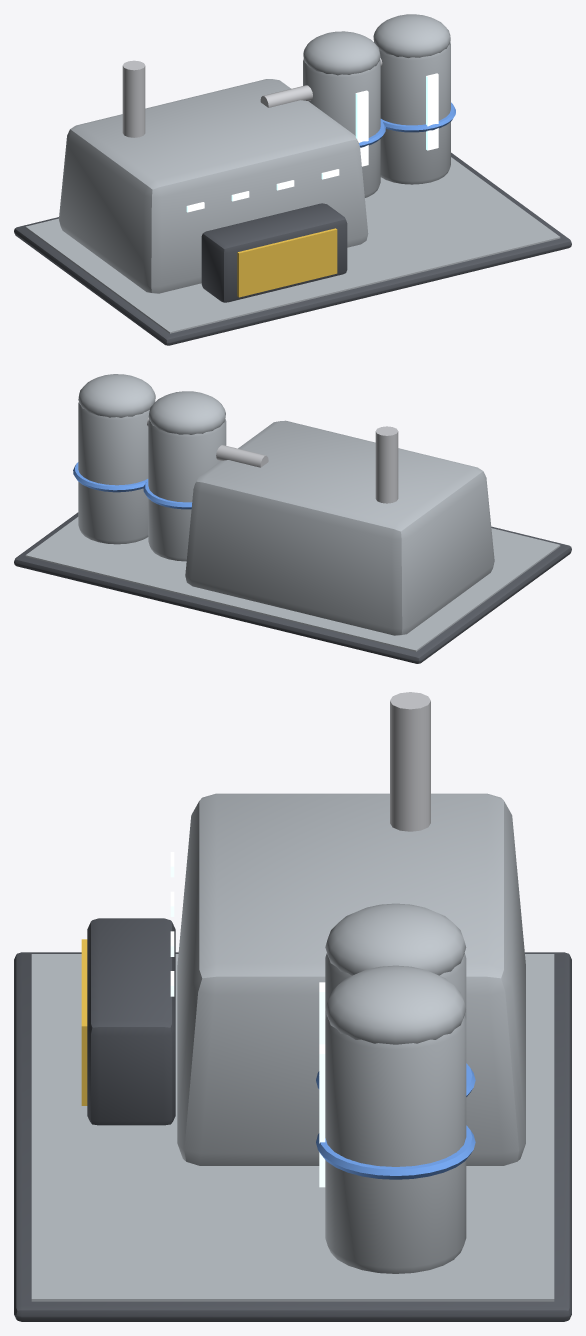
The model's file is refinery_hum.glb.
3 renders of one model, top to bottom at view 1: azimuth 30°, elevation 25°; view 2: azimuth 150°, elevation 25°; view 3: azimuth 270°, elevation 25°, orthographic. The views are drawn at different scales.
Parts seen in each view (by area): view 1: refinery_hum; view 2: refinery_hum; view 3: refinery_hum.
Part boxes in pixels (x1=…): refinery_hum: x1=14, y1=14, x2=571, y2=345; refinery_hum: x1=14, y1=374, x2=571, y2=663; refinery_hum: x1=14, y1=692, x2=571, y2=1321.
Size of the model in its own units: 2.9 by 1.25 by 1.9.
